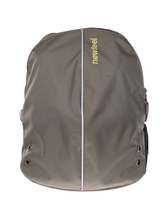bag: (20, 26, 151, 190)
